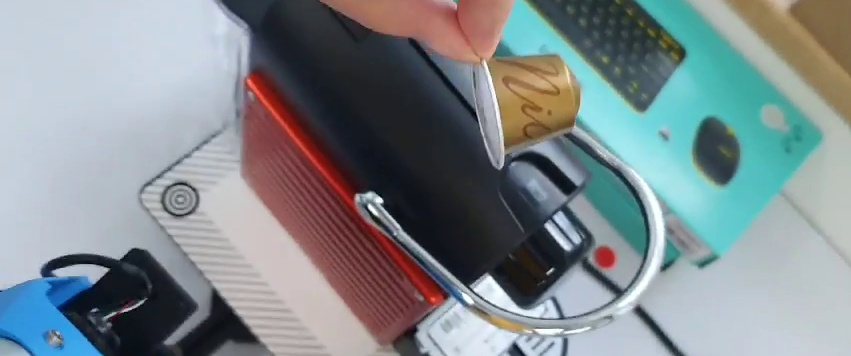capsule_9: (470, 52, 584, 169)
